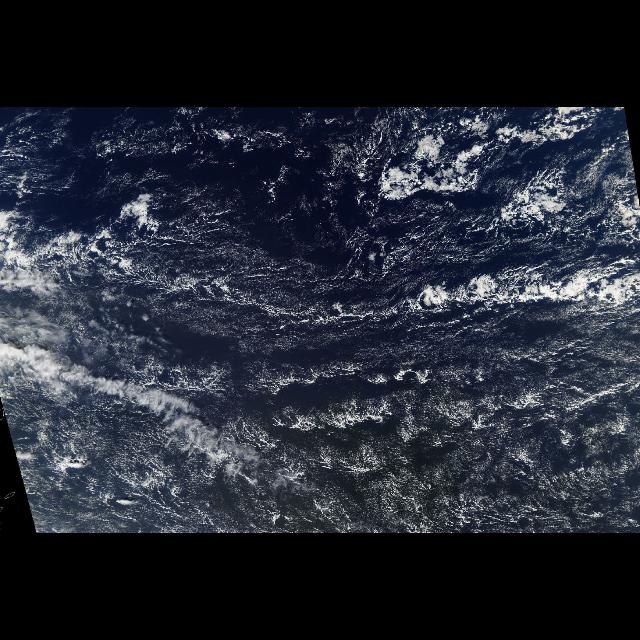Sugar: (2, 183, 640, 533)
